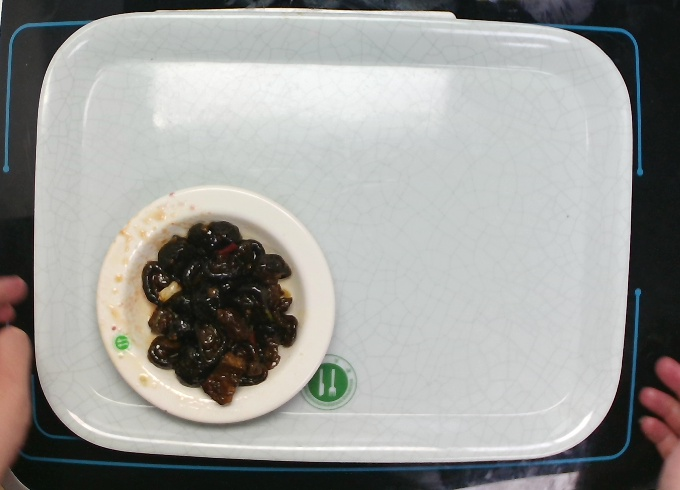WCQzf-Kuan_Bian_Yuan_Die: (91, 181, 340, 428)
